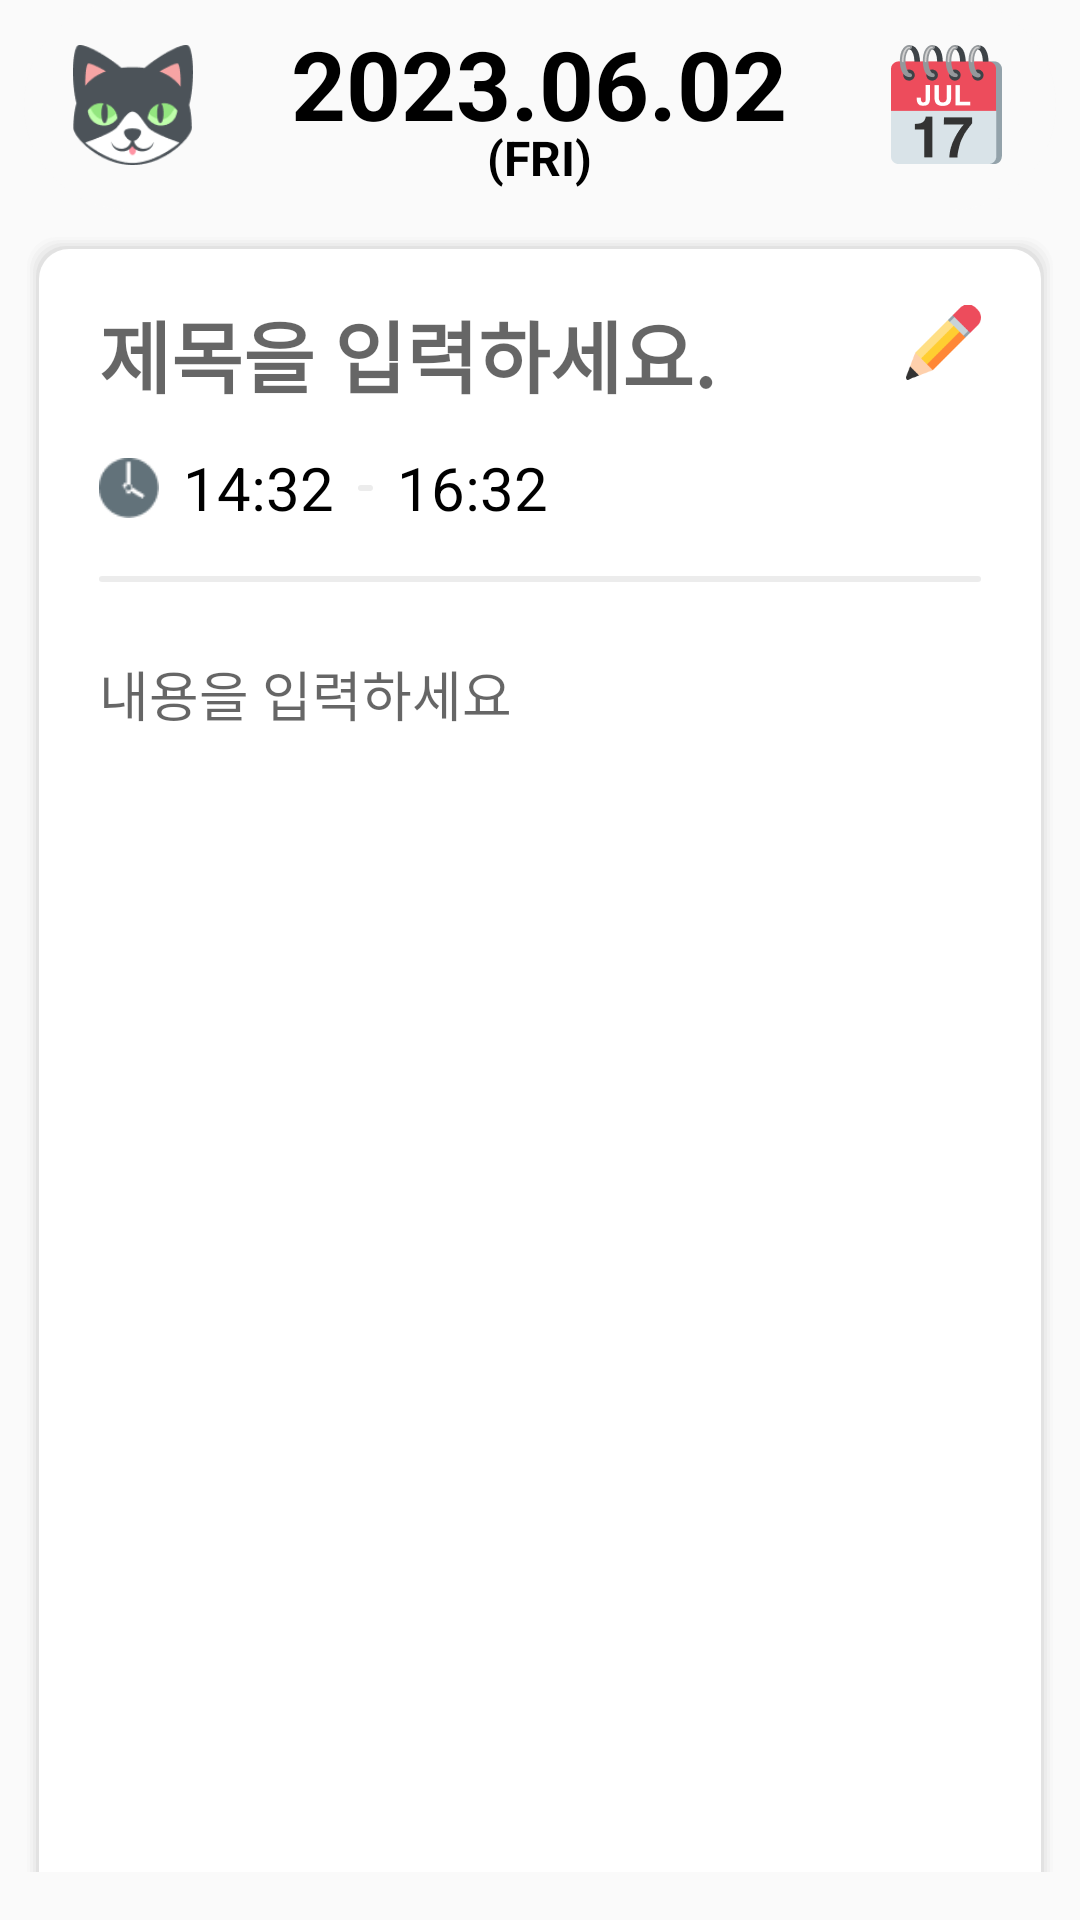

Where to tap for icons on this 1080*1920 app screen, as (x=x, y=y):
emojical: (x=946, y=104)
emojicat: (x=133, y=105)
emojiclock: (x=129, y=488)
pencil: (x=943, y=342)
